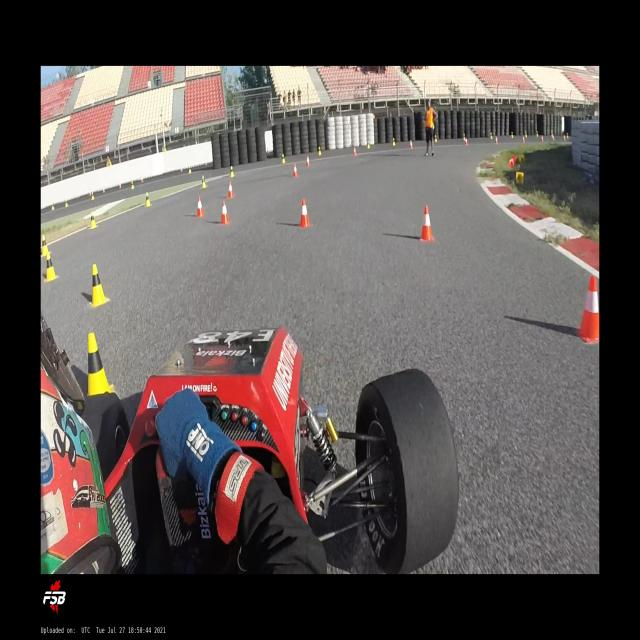orange_cone: (575, 274, 599, 342), (419, 206, 435, 242), (298, 198, 312, 228), (220, 201, 230, 225), (196, 198, 205, 218), (227, 182, 234, 198), (292, 163, 298, 177), (508, 158, 515, 168), (306, 155, 310, 166), (131, 180, 135, 190), (409, 139, 413, 149), (353, 146, 357, 156), (88, 189, 92, 197), (464, 137, 468, 145), (141, 176, 144, 184), (522, 136, 525, 143), (119, 182, 122, 189), (103, 187, 106, 194), (495, 137, 498, 144), (563, 134, 566, 140), (552, 134, 555, 140), (541, 135, 544, 141), (181, 166, 183, 173), (536, 131, 538, 135)
yellow_cone: (86, 332, 114, 398), (88, 264, 109, 308), (44, 252, 58, 282), (41, 235, 50, 256), (145, 192, 153, 207), (90, 212, 97, 228), (516, 172, 524, 183), (201, 175, 207, 188), (230, 165, 235, 178), (281, 153, 286, 163), (392, 137, 396, 146), (367, 140, 371, 149), (462, 134, 466, 142), (91, 192, 95, 200), (51, 202, 55, 210), (434, 134, 438, 142), (131, 181, 135, 189), (318, 147, 322, 155), (65, 198, 68, 208), (189, 166, 192, 173), (511, 132, 514, 138), (566, 132, 568, 139), (525, 131, 527, 137), (490, 133, 492, 139), (536, 131, 538, 136)
